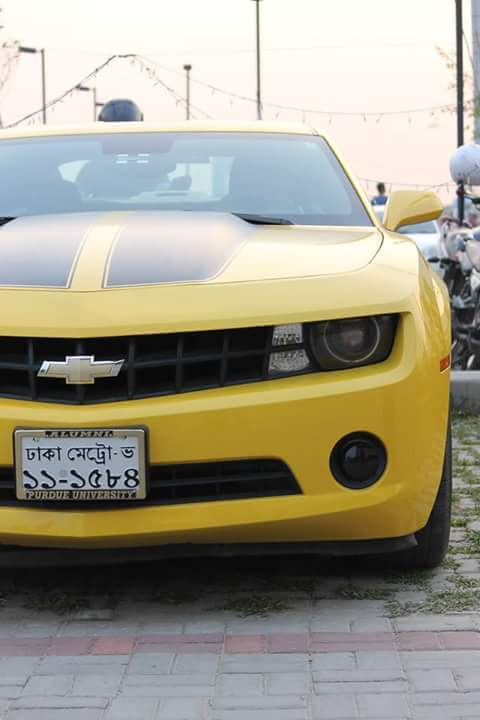registration_plate: (21, 436, 139, 491)
